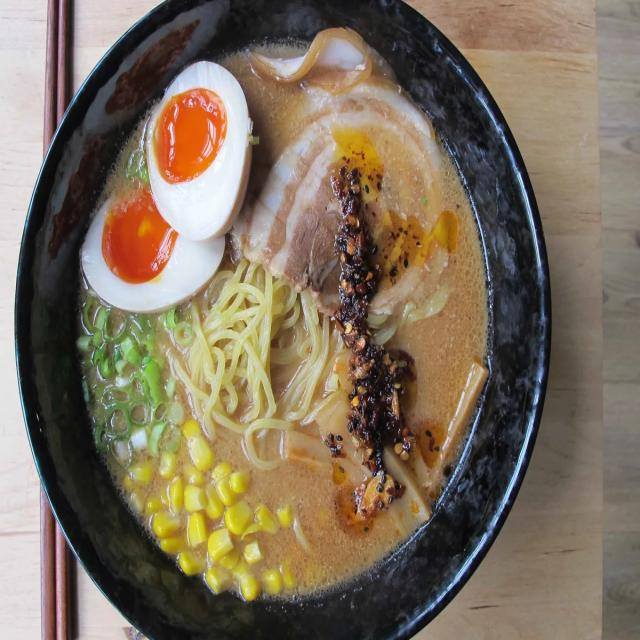carb: (172, 259, 341, 471)
meat: (237, 29, 442, 310), (84, 63, 254, 312)
vegetable: (82, 296, 310, 601), (384, 364, 490, 539), (280, 389, 371, 488)
